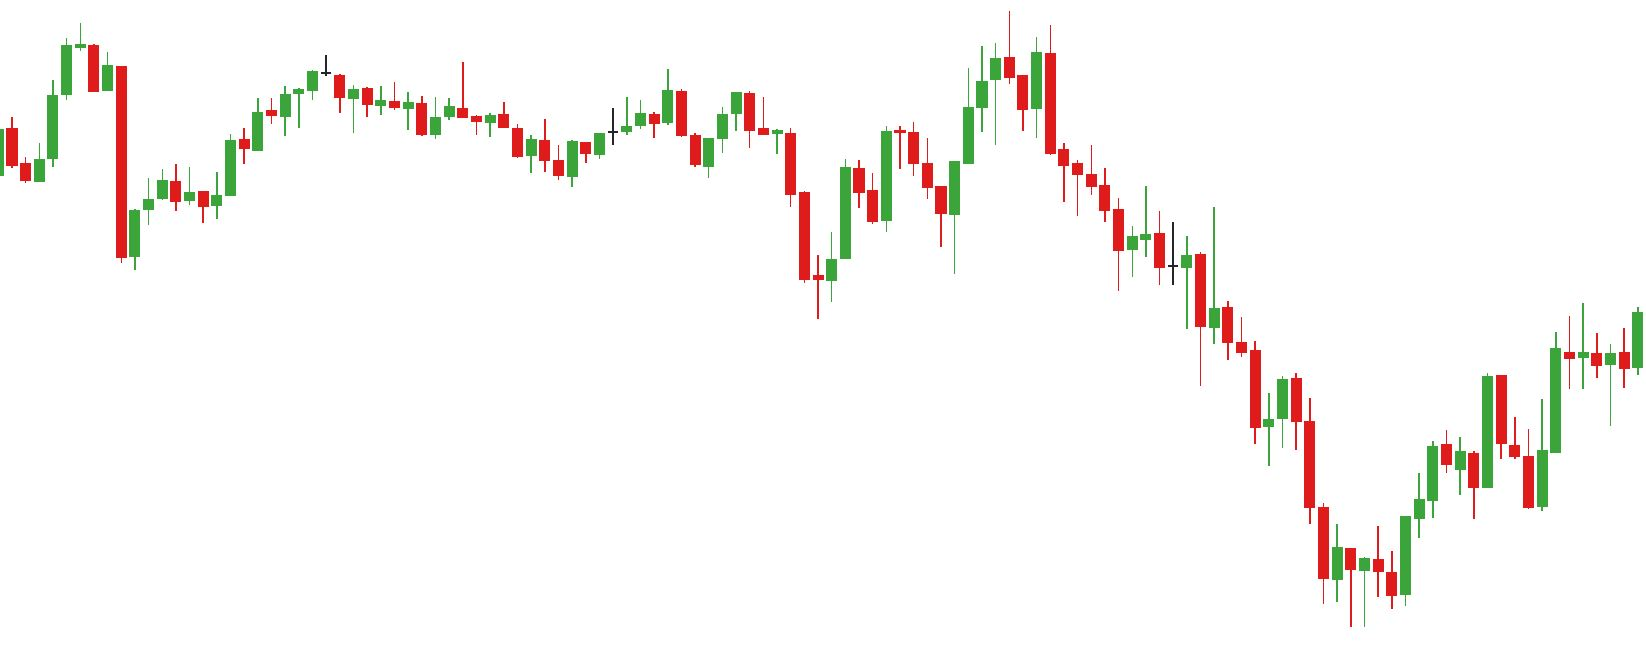sell: (659, 15, 1017, 151)
